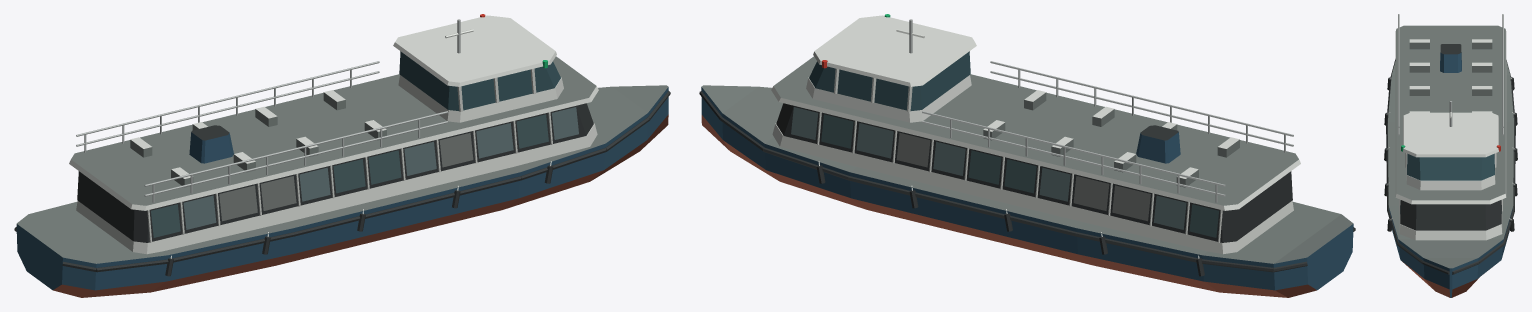
Rendered from river-ferry.glb.
3 renders of one model, left to right at view 1: azimuth 30°, elevation 25°; view 2: azimuth 150°, elevation 25°; view 3: azimuth 270°, elevation 25°, orthographic. The views are drawn at different scales.
Visible parts, largest first — view 1: Thirty-three metre river excursion launch; view 2: Thirty-three metre river excursion launch; view 3: Thirty-three metre river excursion launch.
Part boxes in pixels (x1,y1,x2,y2): Thirty-three metre river excursion launch: [14, 14, 670, 297]; Thirty-three metre river excursion launch: [699, 14, 1355, 297]; Thirty-three metre river excursion launch: [1384, 14, 1517, 297].
Bounding box in the file's own units: 33.24 × 8.99 × 8.01.
